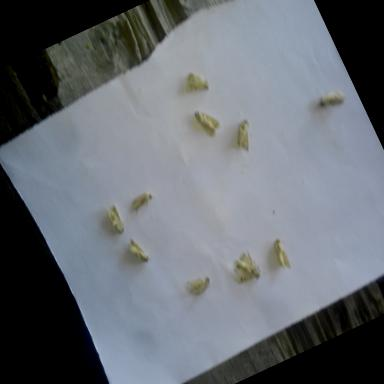abw: (224, 244, 268, 292), (224, 114, 265, 160), (178, 62, 216, 102), (314, 82, 354, 120), (190, 100, 226, 142), (98, 198, 132, 242), (181, 266, 219, 304), (122, 187, 162, 222), (266, 234, 298, 276), (124, 234, 156, 271)
